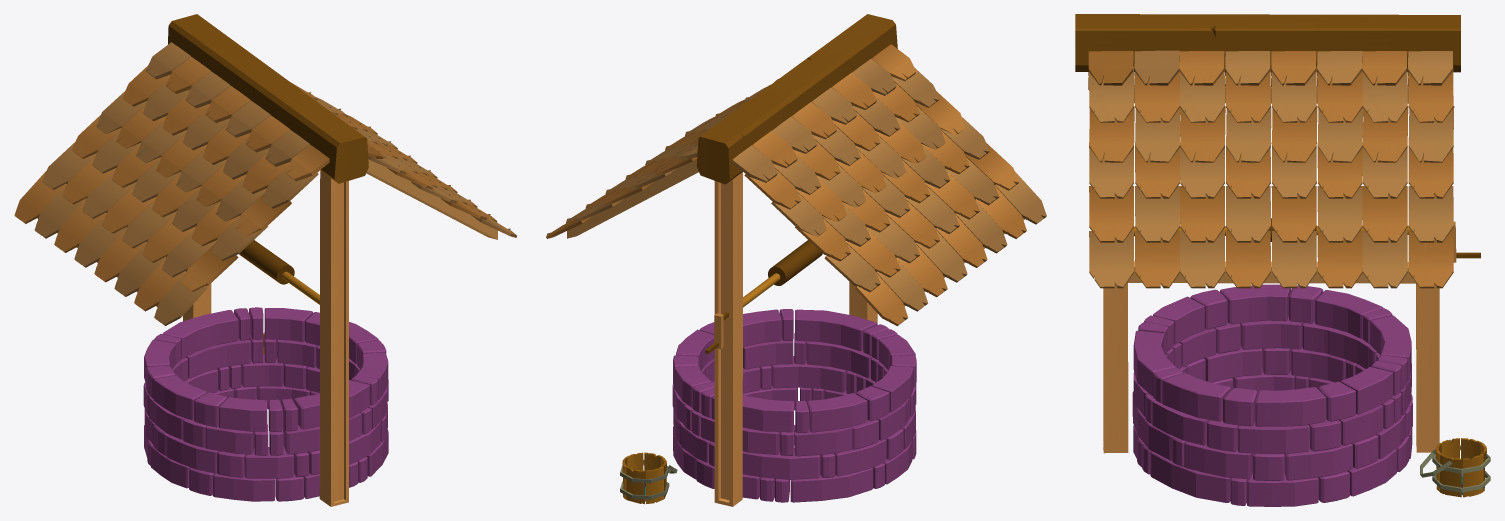
The model's file is Poço.fbx.
3 views of the same model, side by side, from view 1: azimuth 30°, elevation 25°; view 2: azimuth 150°, elevation 25°; view 3: azimuth 270°, elevation 25° (orthographic). The views are drawn at different scales.
Visible parts, largest first — view 1: Cube, Cube.001; view 2: Cube, Cube.001, Plane; view 3: Cube.001, Cube, Plane.
Part boxes in pixels (<box>): Cube: <box>37,14,497,506</box>; Cube.001: <box>14,42,516,325</box>; Cube: <box>567,14,1024,506</box>; Cube.001: <box>546,44,1046,326</box>; Plane: <box>620,452,677,504</box>; Cube.001: <box>1088,50,1454,288</box>; Cube: <box>1075,14,1480,506</box>; Plane: <box>1420,438,1490,497</box>.
Size of the model in its own units: 374 by 375 by 330.
Materials: 5 (5 with a texture image).
